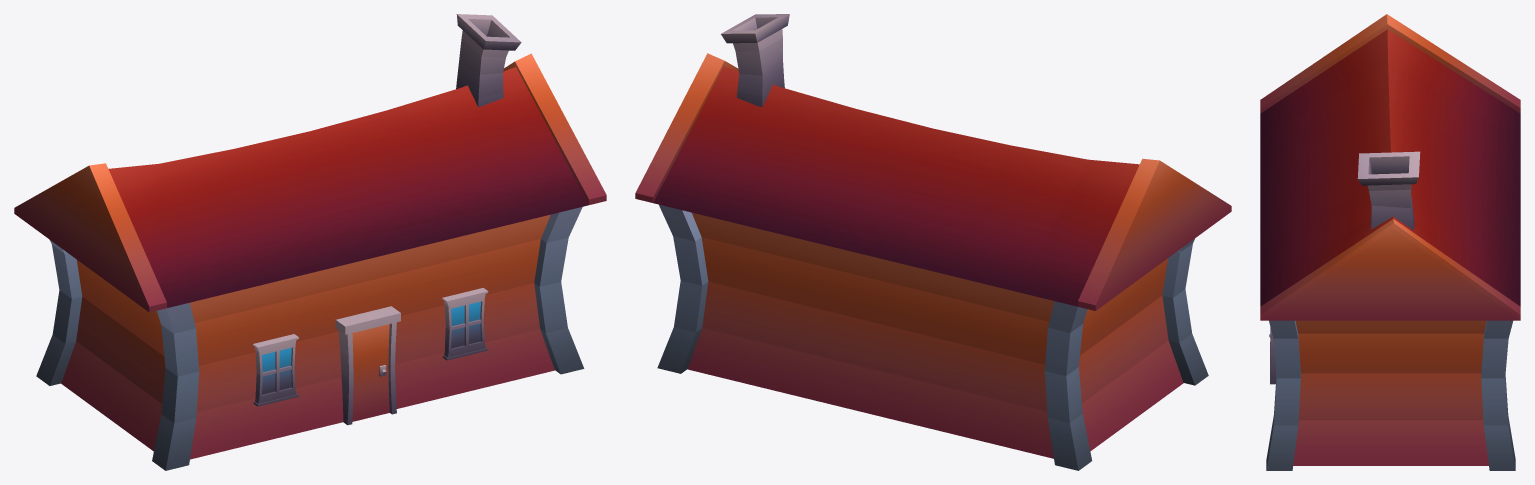
Rendered from House_1.fbx.
3 views of the same model, side by side, from view 1: azimuth 30°, elevation 25°; view 2: azimuth 150°, elevation 25°; view 3: azimuth 270°, elevation 25° (orthographic). The views are drawn at different scales.
Parts seen in each view (by area): view 1: House Floor; view 2: House Floor; view 3: House Floor.
Boxes of the visible parts, box(x1,y1,x2,y2) form: House Floor: box(14, 14, 606, 470); House Floor: box(635, 14, 1231, 470); House Floor: box(1260, 14, 1520, 470).
Bounding box in the file's own units: 936 × 603 × 479.
